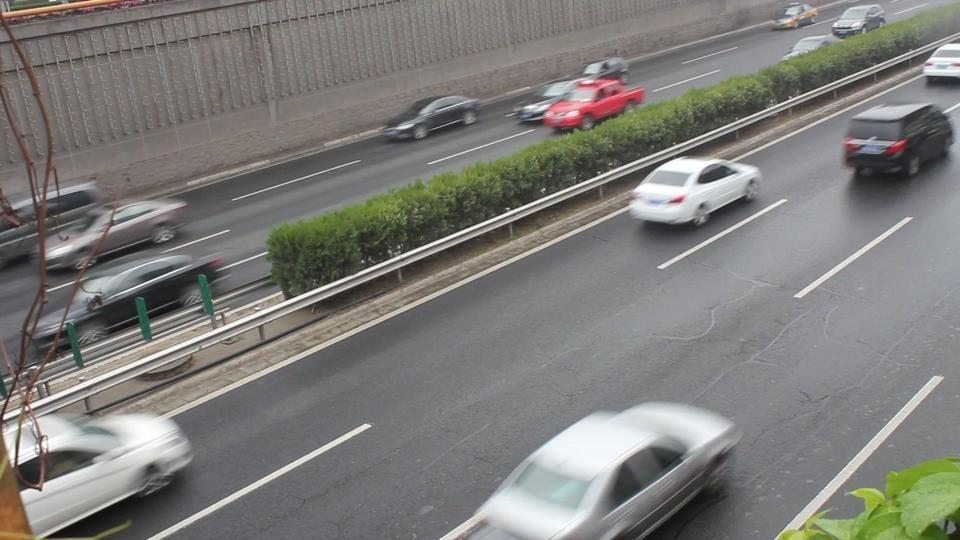car: (442, 399, 744, 538), (10, 410, 195, 537), (70, 249, 231, 318), (43, 198, 189, 272), (0, 179, 115, 269), (628, 156, 762, 228), (840, 101, 954, 179), (544, 81, 646, 133), (513, 76, 613, 124), (383, 94, 481, 142), (831, 5, 886, 40), (922, 43, 960, 84), (770, 1, 818, 31), (580, 56, 630, 84)
